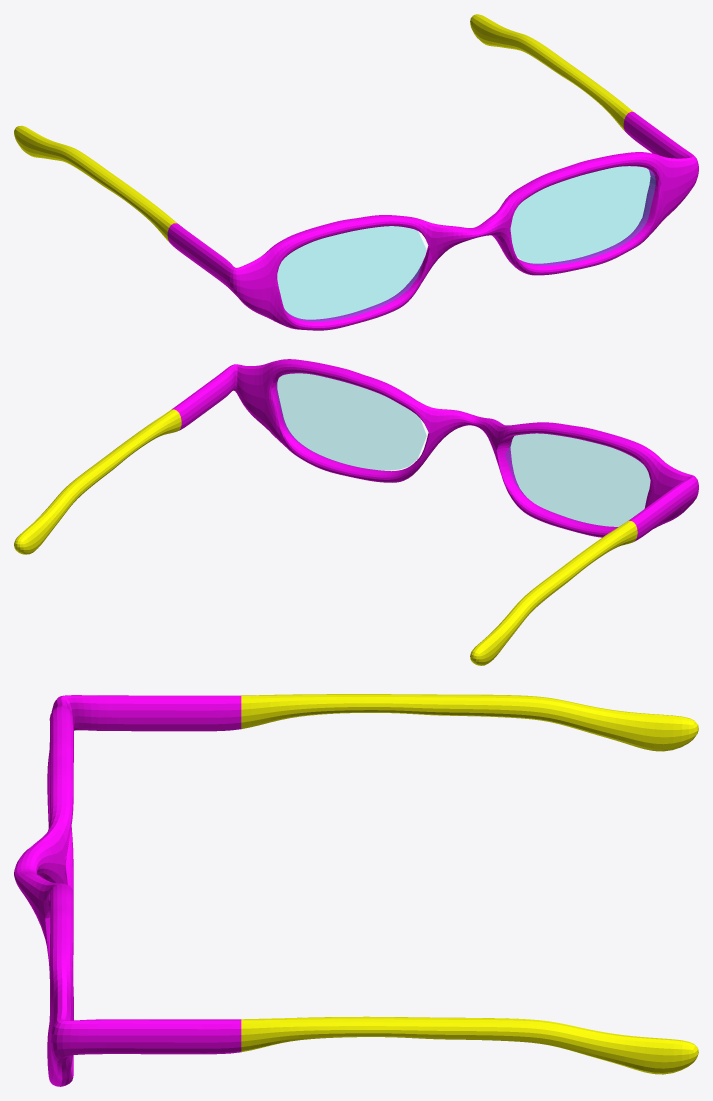
File: glasses.fbx
3 views of the same model, one above another, from view 1: azimuth 30°, elevation 25°; view 2: azimuth 150°, elevation 25°; view 3: azimuth 270°, elevation 25° (orthographic). The views are drawn at different scales.
Visible parts, largest first — view 1: Frame, Lens; view 2: Frame, Lens; view 3: Frame.
Part boxes in pixels (x1,y1,x2,y2): Frame: (14,14,698,330); Lens: (277,166,655,321); Frame: (14,359,698,665); Lens: (276,373,650,526); Frame: (14,694,698,1086).
Bounding box in the file's own units: 246 × 52.02 × 213.
